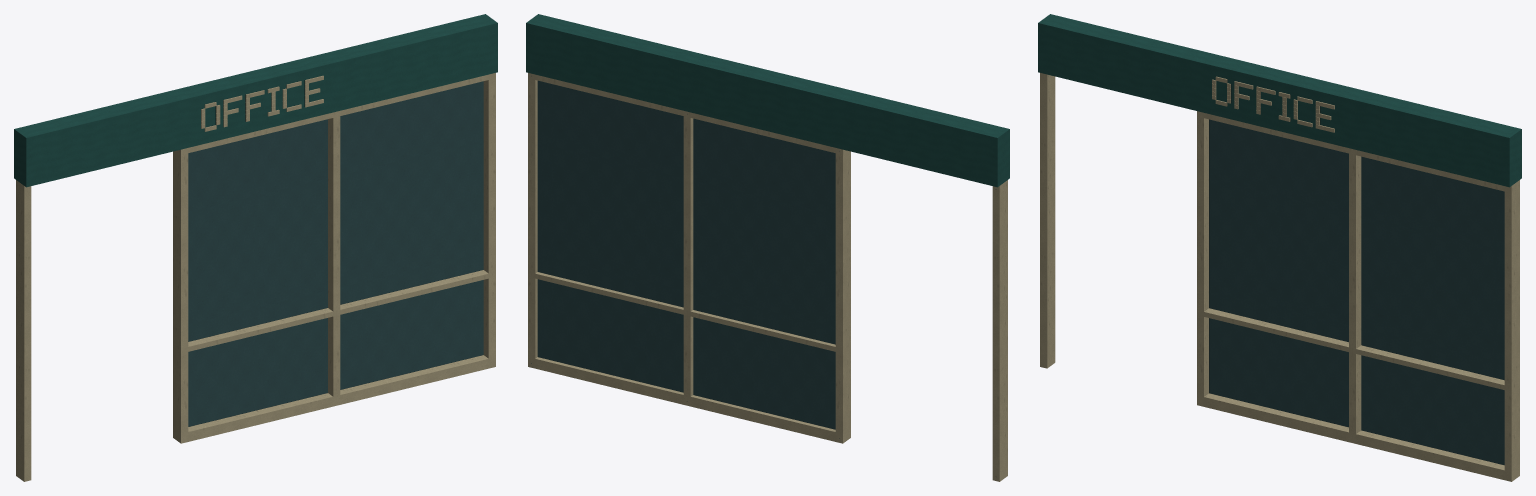
Rendered from lobby_glazed_facade_realistic_r1.glb.
3 views of the same model, side by side, from view 1: azimuth 30°, elevation 25°; view 2: azimuth 150°, elevation 25°; view 3: azimuth 330°, elevation 25° (orthographic).
Visible parts, largest first — view 1: lobby_glazed_facade__runtime__BCR1_teal_timber, lobby_glazed_facade__runtime__BCR1_painted_aluminum, lobby_glazed_facade__r1__lobby_glass_right_upper, lobby_glazed_facade__r1__lobby_glass_left_upper, lobby_glazed_facade__r1__lobby_glass_right_lower, lobby_glazed_facade__r1__lobby_glass_left_lower; view 2: lobby_glazed_facade__runtime__BCR1_teal_timber, lobby_glazed_facade__r1__lobby_glass_right_upper, lobby_glazed_facade__r1__lobby_glass_left_upper, lobby_glazed_facade__runtime__BCR1_painted_aluminum, lobby_glazed_facade__r1__lobby_glass_right_lower, lobby_glazed_facade__r1__lobby_glass_left_lower; view 3: lobby_glazed_facade__runtime__BCR1_teal_timber, lobby_glazed_facade__runtime__BCR1_painted_aluminum, lobby_glazed_facade__r1__lobby_glass_right_upper, lobby_glazed_facade__r1__lobby_glass_left_upper, lobby_glazed_facade__r1__lobby_glass_right_lower, lobby_glazed_facade__r1__lobby_glass_left_lower, lobby_glazed_facade__runtime__BCR1_rubber.
Boxes of the visible parts, x1,y1,x2,y2 form: lobby_glazed_facade__runtime__BCR1_teal_timber: (14, 14, 497, 187); lobby_glazed_facade__runtime__BCR1_painted_aluminum: (16, 73, 495, 481); lobby_glazed_facade__r1__lobby_glass_right_upper: (340, 81, 483, 304); lobby_glazed_facade__r1__lobby_glass_left_upper: (188, 119, 327, 341); lobby_glazed_facade__r1__lobby_glass_right_lower: (340, 280, 483, 389); lobby_glazed_facade__r1__lobby_glass_left_lower: (188, 318, 327, 426); lobby_glazed_facade__runtime__BCR1_teal_timber: (526, 14, 1009, 187); lobby_glazed_facade__r1__lobby_glass_right_upper: (537, 80, 683, 307); lobby_glazed_facade__r1__lobby_glass_left_upper: (693, 118, 835, 344); lobby_glazed_facade__runtime__BCR1_painted_aluminum: (528, 73, 1007, 481); lobby_glazed_facade__r1__lobby_glass_right_lower: (537, 279, 683, 392); lobby_glazed_facade__r1__lobby_glass_left_lower: (693, 317, 835, 429); lobby_glazed_facade__runtime__BCR1_teal_timber: (1038, 14, 1521, 187); lobby_glazed_facade__runtime__BCR1_painted_aluminum: (1040, 73, 1519, 481); lobby_glazed_facade__r1__lobby_glass_right_upper: (1361, 156, 1504, 379); lobby_glazed_facade__r1__lobby_glass_left_upper: (1209, 119, 1348, 341); lobby_glazed_facade__r1__lobby_glass_right_lower: (1361, 355, 1504, 465); lobby_glazed_facade__r1__lobby_glass_left_lower: (1209, 318, 1348, 427); lobby_glazed_facade__runtime__BCR1_rubber: (1209, 78, 1504, 464).
Size of the model in its own units: 4 by 2.8 by 0.1905.
5 materials, 5 textured.
